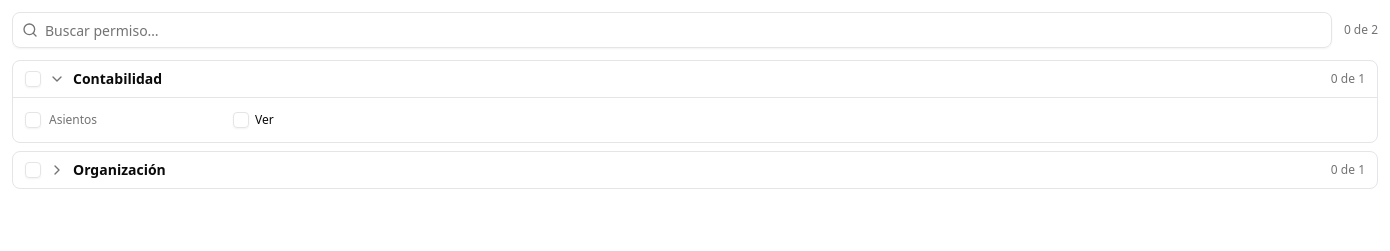
Test case: PermissionsPicker — espeja el catálogo filtrado del backend › renderiza solo los permisos que el backend devolvió
Expected: the label titled "contabilidad.asientos.read" is shown, [233,111,274,128]
Click the button "Organización 0 de 1".
click(119, 170)  # box [49,160,1365,180]
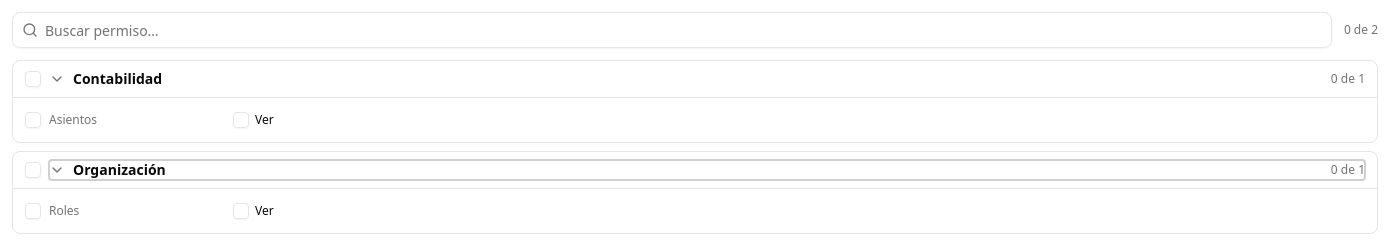
Expected: the label titled "organizacion.roles.read" next to "Roles" is shown, [233,202,274,219]
